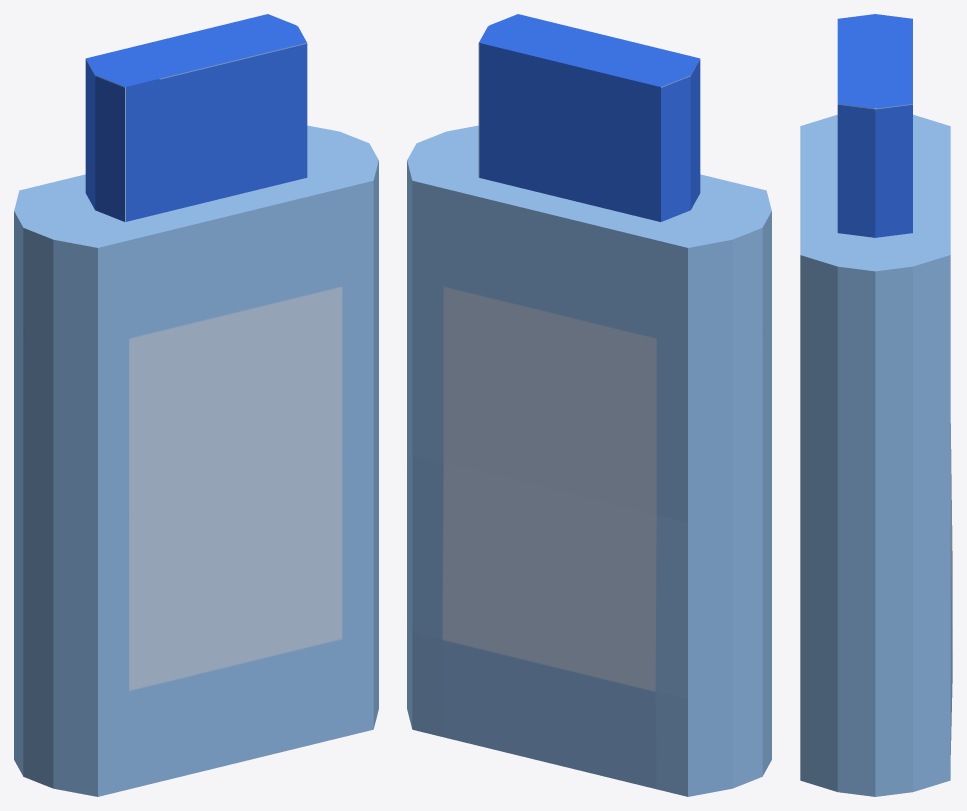
Rendered from Shampoo Bottle Variant A.glb.
The picture shows the model from 3 angles, left to right: view 1: azimuth 30°, elevation 25°; view 2: azimuth 150°, elevation 25°; view 3: azimuth 270°, elevation 25°; orthographic projection. The views are drawn at different scales.
Visible parts, largest first — view 1: shampoo_bottle_1; view 2: shampoo_bottle_1; view 3: shampoo_bottle_1.
Part boxes in pixels (x1,y1,x2,y2): shampoo_bottle_1: [14, 14, 378, 796]; shampoo_bottle_1: [407, 14, 771, 796]; shampoo_bottle_1: [800, 14, 952, 796].
Bounding box in the file's own units: 0.3002 × 0.567 × 0.1197.
Materials: 1 (1 with a texture image).
